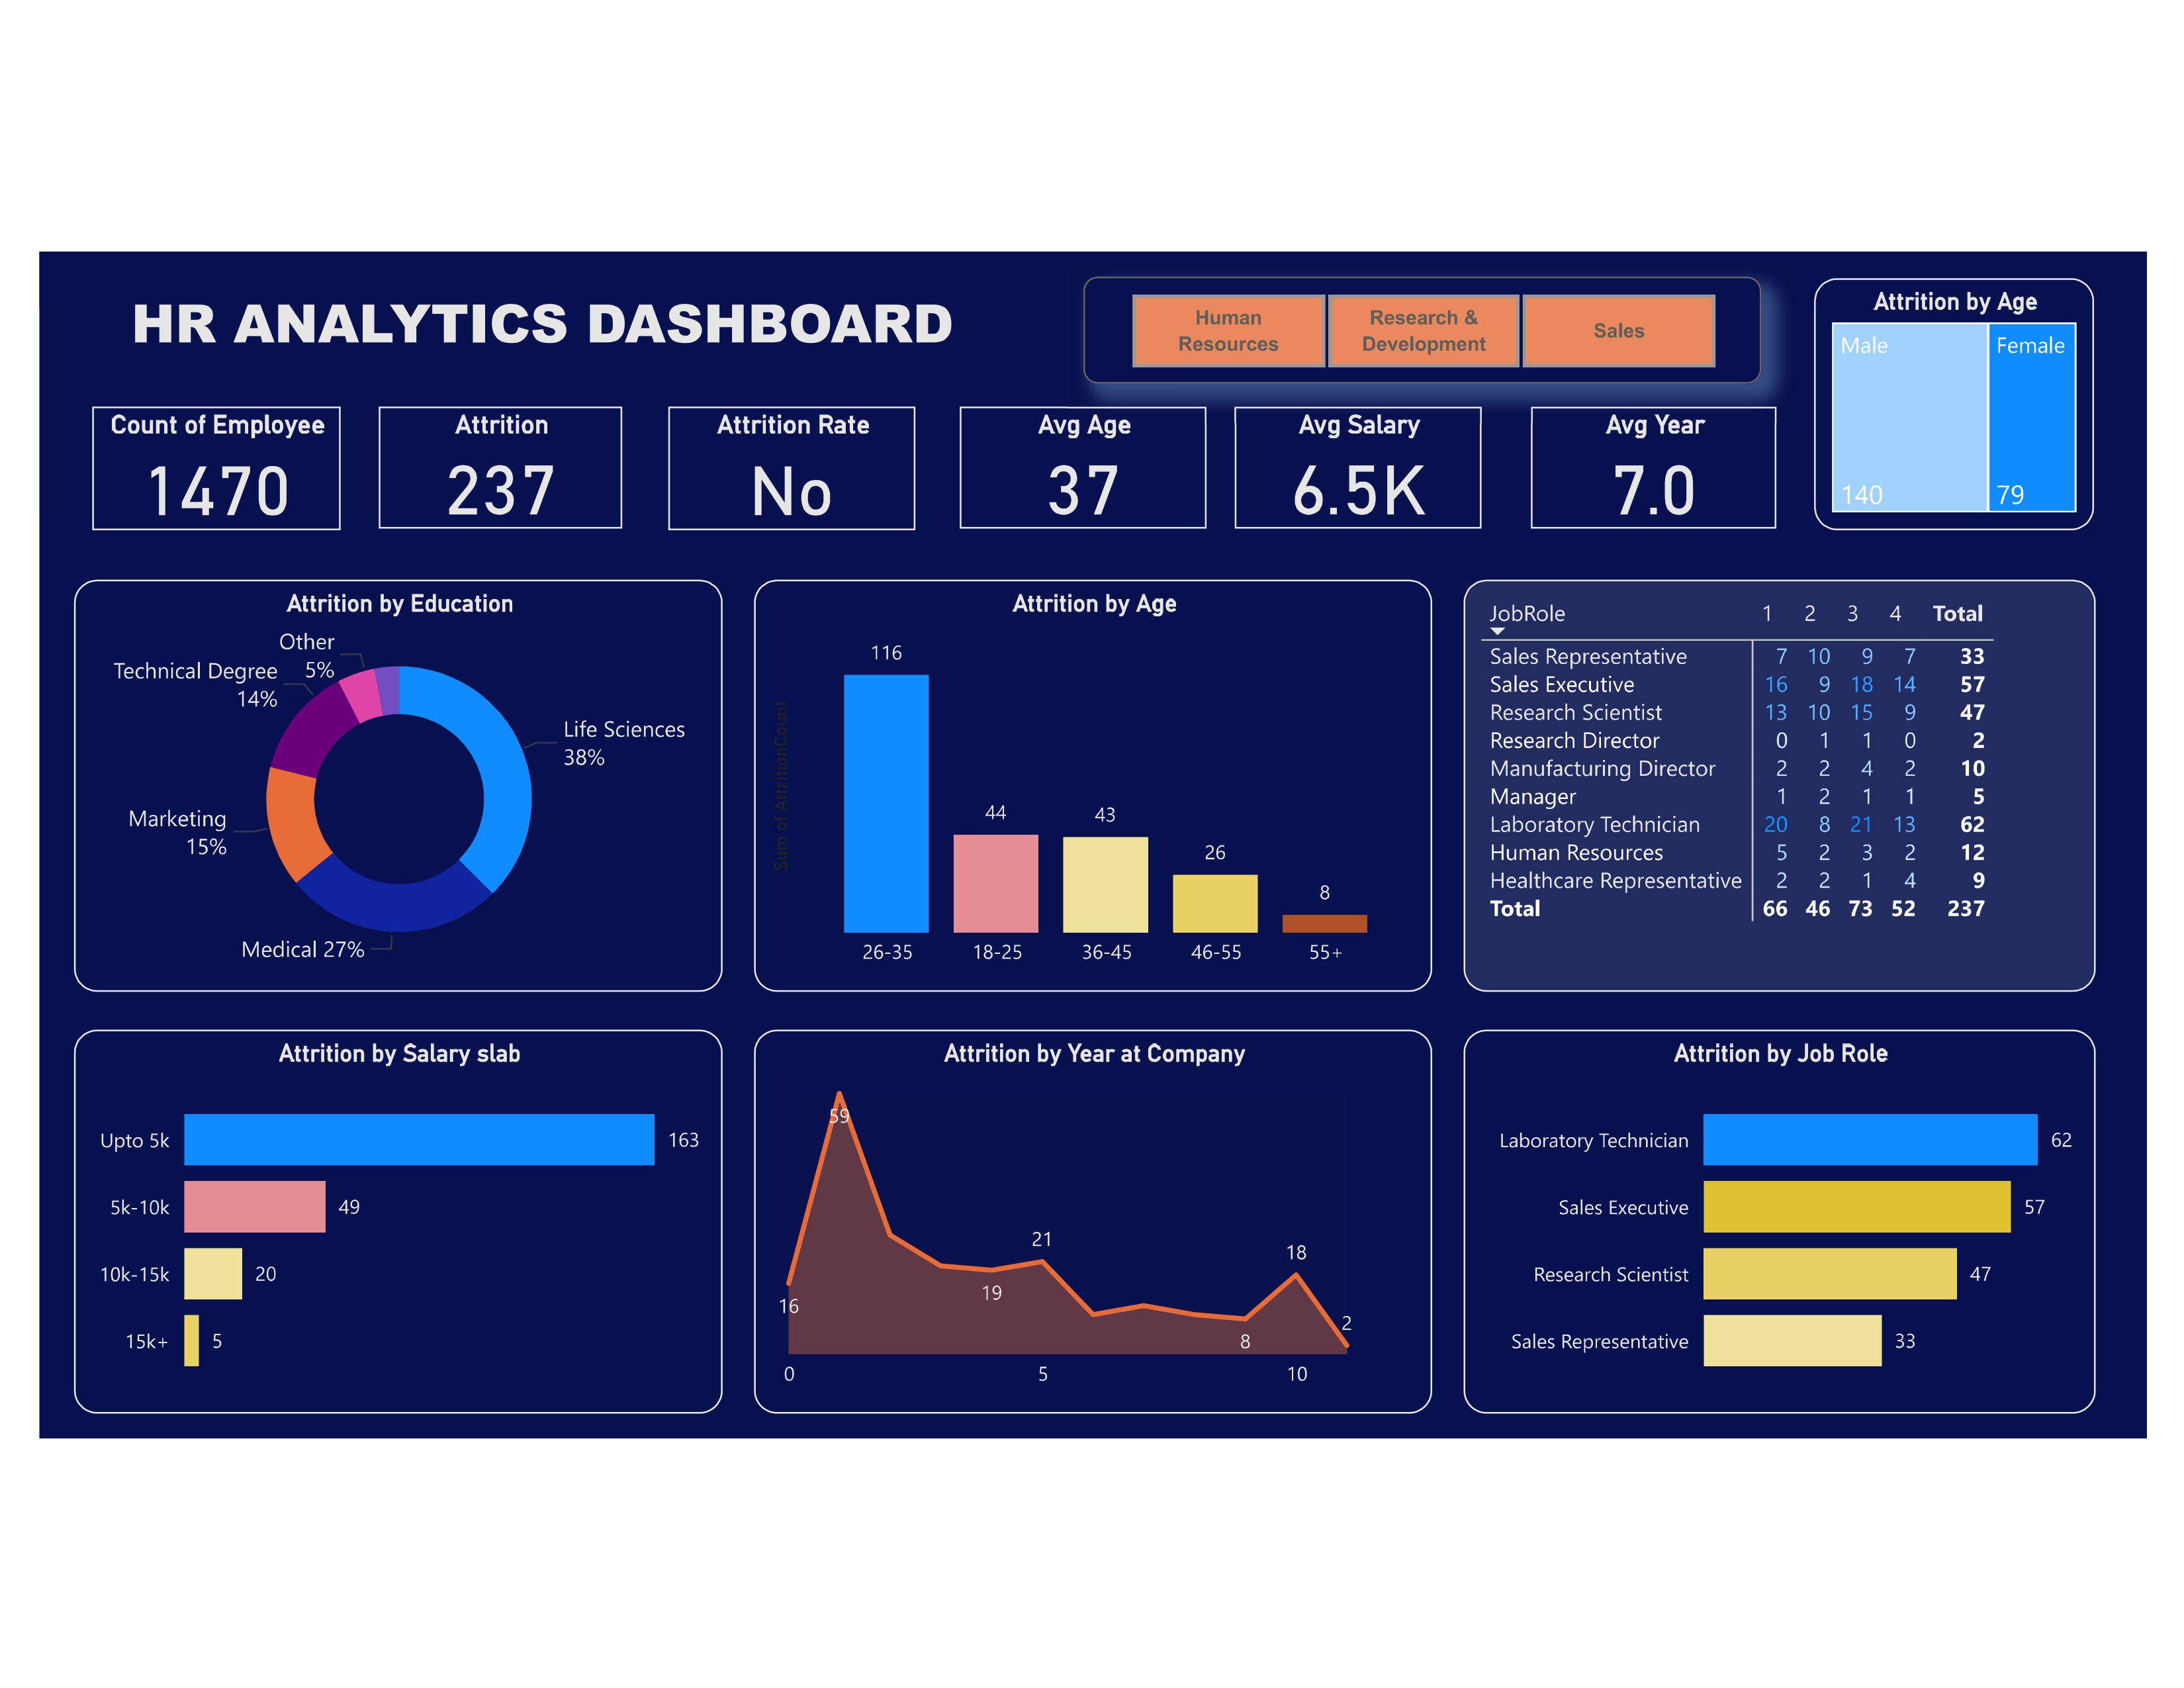

What the dashboard file says about the page in this screenshot:
{"tool":"powerbi","page":{"name":"HR ANALYTICS","canvas":[1280,720],"ordinal":0},"visuals":[{"type":"card","title":"Overall Employees","fields":{"Values":["CountNonNull(HR_Analytics.EmpID)"]},"box":[32.3,94.2,151,74.8],"z":0},{"type":"card","title":"Attrition Rate","fields":{"Values":["HR_Analytics.AttritionRate"]},"box":[381.9,94.2,149.7,74.8],"z":1000},{"type":"card","title":"Attrition","fields":{"Values":["Sum(HR_Analytics.AttritionCount)"]},"box":[205.5,93.8,149,74.5],"z":2000},{"type":"card","title":"Avg Age","fields":{"Values":["Avg(HR_Analytics.Age)"]},"box":[558.6,93.8,150.3,74.5],"z":3000},{"type":"card","title":"Avg Salary","fields":{"Values":["Avg(HR_Analytics.MonthlyIncome)"]},"box":[725.5,93.8,150.3,74.5],"z":4000},{"type":"card","title":"Year at Company","fields":{"Values":["Avg(HR_Analytics.YearsAtCompany)"]},"box":[896.8,92.9,149.7,74.8],"z":5000},{"type":"donutChart","title":"Attrition by Education","fields":{"Category":["HR_Analytics.EducationField"],"Y":["Sum(HR_Analytics.AttritionCount)"]},"box":[20.6,198.7,394.8,250.3],"z":6000},{"type":"columnChart","title":"Attrition by Age","fields":{"Category":["HR_Analytics.AgeGroup"],"Y":["Sum(HR_Analytics.AttritionCount)"]},"box":[433.5,198.7,412.9,250.3],"z":7000},{"type":"pivotTable","fields":{"Rows":["HR_Analytics.JobRole"],"Columns":["HR_Analytics.JobSatisfaction"],"Values":["Sum(HR_Analytics.AttritionCount)"]},"box":[864.5,198.7,384.5,250.3],"z":8000},{"type":"barChart","title":"Attrition by Salary slab","fields":{"Category":["HR_Analytics.SalarySlab"],"Y":["Sum(HR_Analytics.AttritionCount)"]},"box":[20.6,472.3,394.8,232.3],"z":9000},{"type":"barChart","title":"Attrition by Job Role","fields":{"Category":["HR_Analytics.JobRole"],"Y":["Sum(HR_Analytics.AttritionCount)"]},"box":[864.5,472.3,384.5,232.3],"z":10000},{"type":"areaChart","title":"Attrition by Year at Company","fields":{"Category":["HR_Analytics.YearsAtCompany"],"Y":["Sum(HR_Analytics.AttritionCount)"]},"box":[433.5,472.3,412.9,232.3],"z":11000},{"type":"treemap","title":"Attrition by Gender","fields":{"Group":["HR_Analytics.Gender"],"Values":["Sum(HR_Analytics.AttritionCount)"]},"box":[1078,16,170.1,152.9],"z":12000},{"type":"slicer","title":"Department","fields":{"Values":["HR_Analytics.Department"]},"box":[634,16,412,63.8],"z":13000},{"type":"textbox","box":[20.7,15.2,569.7,55.2],"z":14000}]}

Visuals, with their boxes on the page's 1280x720 design canvas (x1, y1, x2, y2). These are canvas units, not pixel positions in the 2184x1688 screenshot, which may show the page scaled, cropped or inside an application window:
"Overall Employees" card: {"x1": 32, "y1": 94, "x2": 183, "y2": 169}
"Attrition Rate" card: {"x1": 382, "y1": 94, "x2": 532, "y2": 169}
"Attrition" card: {"x1": 206, "y1": 94, "x2": 354, "y2": 168}
"Avg Age" card: {"x1": 559, "y1": 94, "x2": 709, "y2": 168}
"Avg Salary" card: {"x1": 726, "y1": 94, "x2": 876, "y2": 168}
"Year at Company" card: {"x1": 897, "y1": 93, "x2": 1046, "y2": 168}
"Attrition by Education" donutChart: {"x1": 21, "y1": 199, "x2": 415, "y2": 449}
"Attrition by Age" columnChart: {"x1": 434, "y1": 199, "x2": 846, "y2": 449}
pivotTable - HR_Analytics.JobRole x HR_Analytics.JobSatisfaction: {"x1": 864, "y1": 199, "x2": 1249, "y2": 449}
"Attrition by Salary slab" barChart: {"x1": 21, "y1": 472, "x2": 415, "y2": 705}
"Attrition by Job Role" barChart: {"x1": 864, "y1": 472, "x2": 1249, "y2": 705}
"Attrition by Year at Company" areaChart: {"x1": 434, "y1": 472, "x2": 846, "y2": 705}
"Attrition by Gender" treemap: {"x1": 1078, "y1": 16, "x2": 1248, "y2": 169}
"Department" slicer: {"x1": 634, "y1": 16, "x2": 1046, "y2": 80}
textbox: {"x1": 21, "y1": 15, "x2": 590, "y2": 70}
